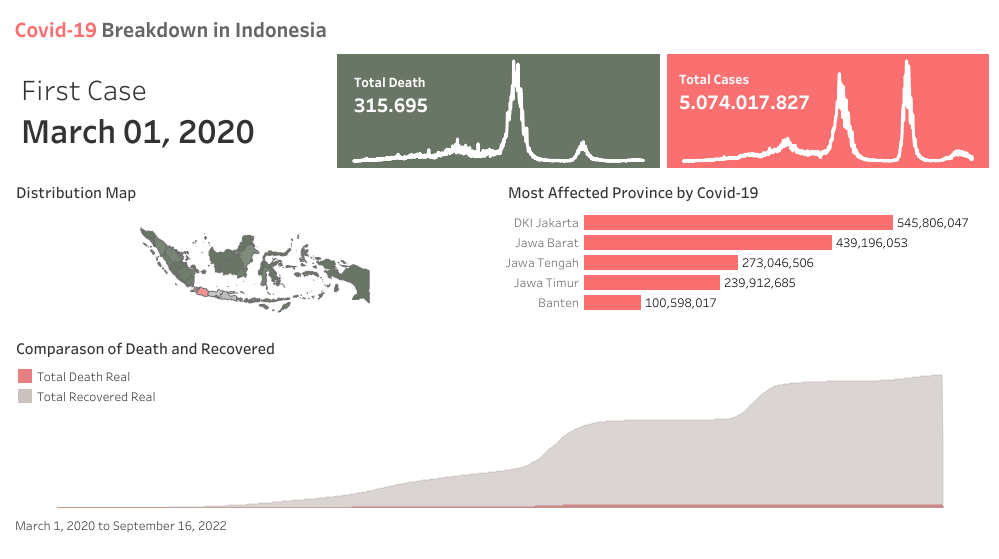

The dashboard page shown, as its layout file describes it:
{"tool":"tableau","page":{"name":"Dashboard 4","canvas":[1000,1000],"units":"permille","ordinal":0},"visuals":[{"type":"text","box":[8,14.3,984,74.5]},{"type":"worksheet","title":"First Case","mark":"Automatic","box":[8,88.8,325,216.7]},{"type":"worksheet","title":"Total Kematian","mark":"Line","rows":["New Deaths"],"cols":["Date"],"box":[333,88.8,329.5,216.7]},{"type":"worksheet","title":"Kasus Terkonfirmasi","mark":"Line","rows":["New Cases"],"cols":["Date"],"box":[662.5,88.8,329.5,216.7]},{"type":"worksheet","title":"Kasus Terkonfirmasi (2)","mark":"Line","box":[675,111.9,154,115.5]},{"type":"worksheet","title":"Total Kematian (2)","mark":"Line","box":[350,117.2,101,97.7]},{"type":"worksheet","title":"Peta","mark":"Automatic","box":[8,305.5,492,278.8]},{"type":"worksheet","title":"Worst Province","mark":"Automatic","rows":["Province"],"cols":["Total Cases"],"box":[500,305.5,492,278.8]},{"type":"worksheet","title":"Comparason","mark":"Area","rows":["Calculation_7881331093135367","Calculation_7881331093393416"],"cols":["Date"],"box":[8,584.4,984,330.3]},{"type":"legend","title":"Comparason","param":"[federated.1tymubh0yns4fq14oqf1h0b8byp1].[:Measure Names]","box":[15,653.6,145,103]},{"type":"filter","title":"Total Kematian","param":"[federated.1tymubh0yns4fq14oqf1h0b8byp1].[tdy:Date:qk]","box":[8,914.6,984,71.1]}]}

Visuals, with their boxes on the dashboard's canvas, which has no fixed pixel size, in thousandths of its width and height (x1, y1, x2, y2). These are canvas units, not pixel positions in the 999x559 screenshot, which may show the page scaled, cropped or inside an application window:
text: rect(8, 14, 992, 89)
"First Case" worksheet: rect(8, 89, 333, 306)
"Total Kematian" worksheet (Line marks): rect(333, 89, 662, 306)
"Kasus Terkonfirmasi" worksheet (Line marks): rect(662, 89, 992, 306)
"Kasus Terkonfirmasi (2)" worksheet (Line marks): rect(675, 112, 829, 227)
"Total Kematian (2)" worksheet (Line marks): rect(350, 117, 451, 215)
"Peta" worksheet: rect(8, 306, 500, 584)
"Worst Province" worksheet: rect(500, 306, 992, 584)
"Comparason" worksheet (Area marks): rect(8, 584, 992, 915)
"Comparason" legend: rect(15, 654, 160, 757)
"Total Kematian" filter: rect(8, 915, 992, 986)
